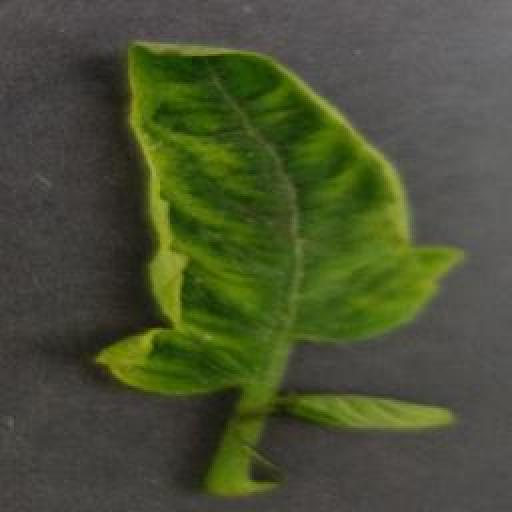Yellow Leaf Curl Virus: (96, 40, 467, 397), (283, 388, 456, 432)
